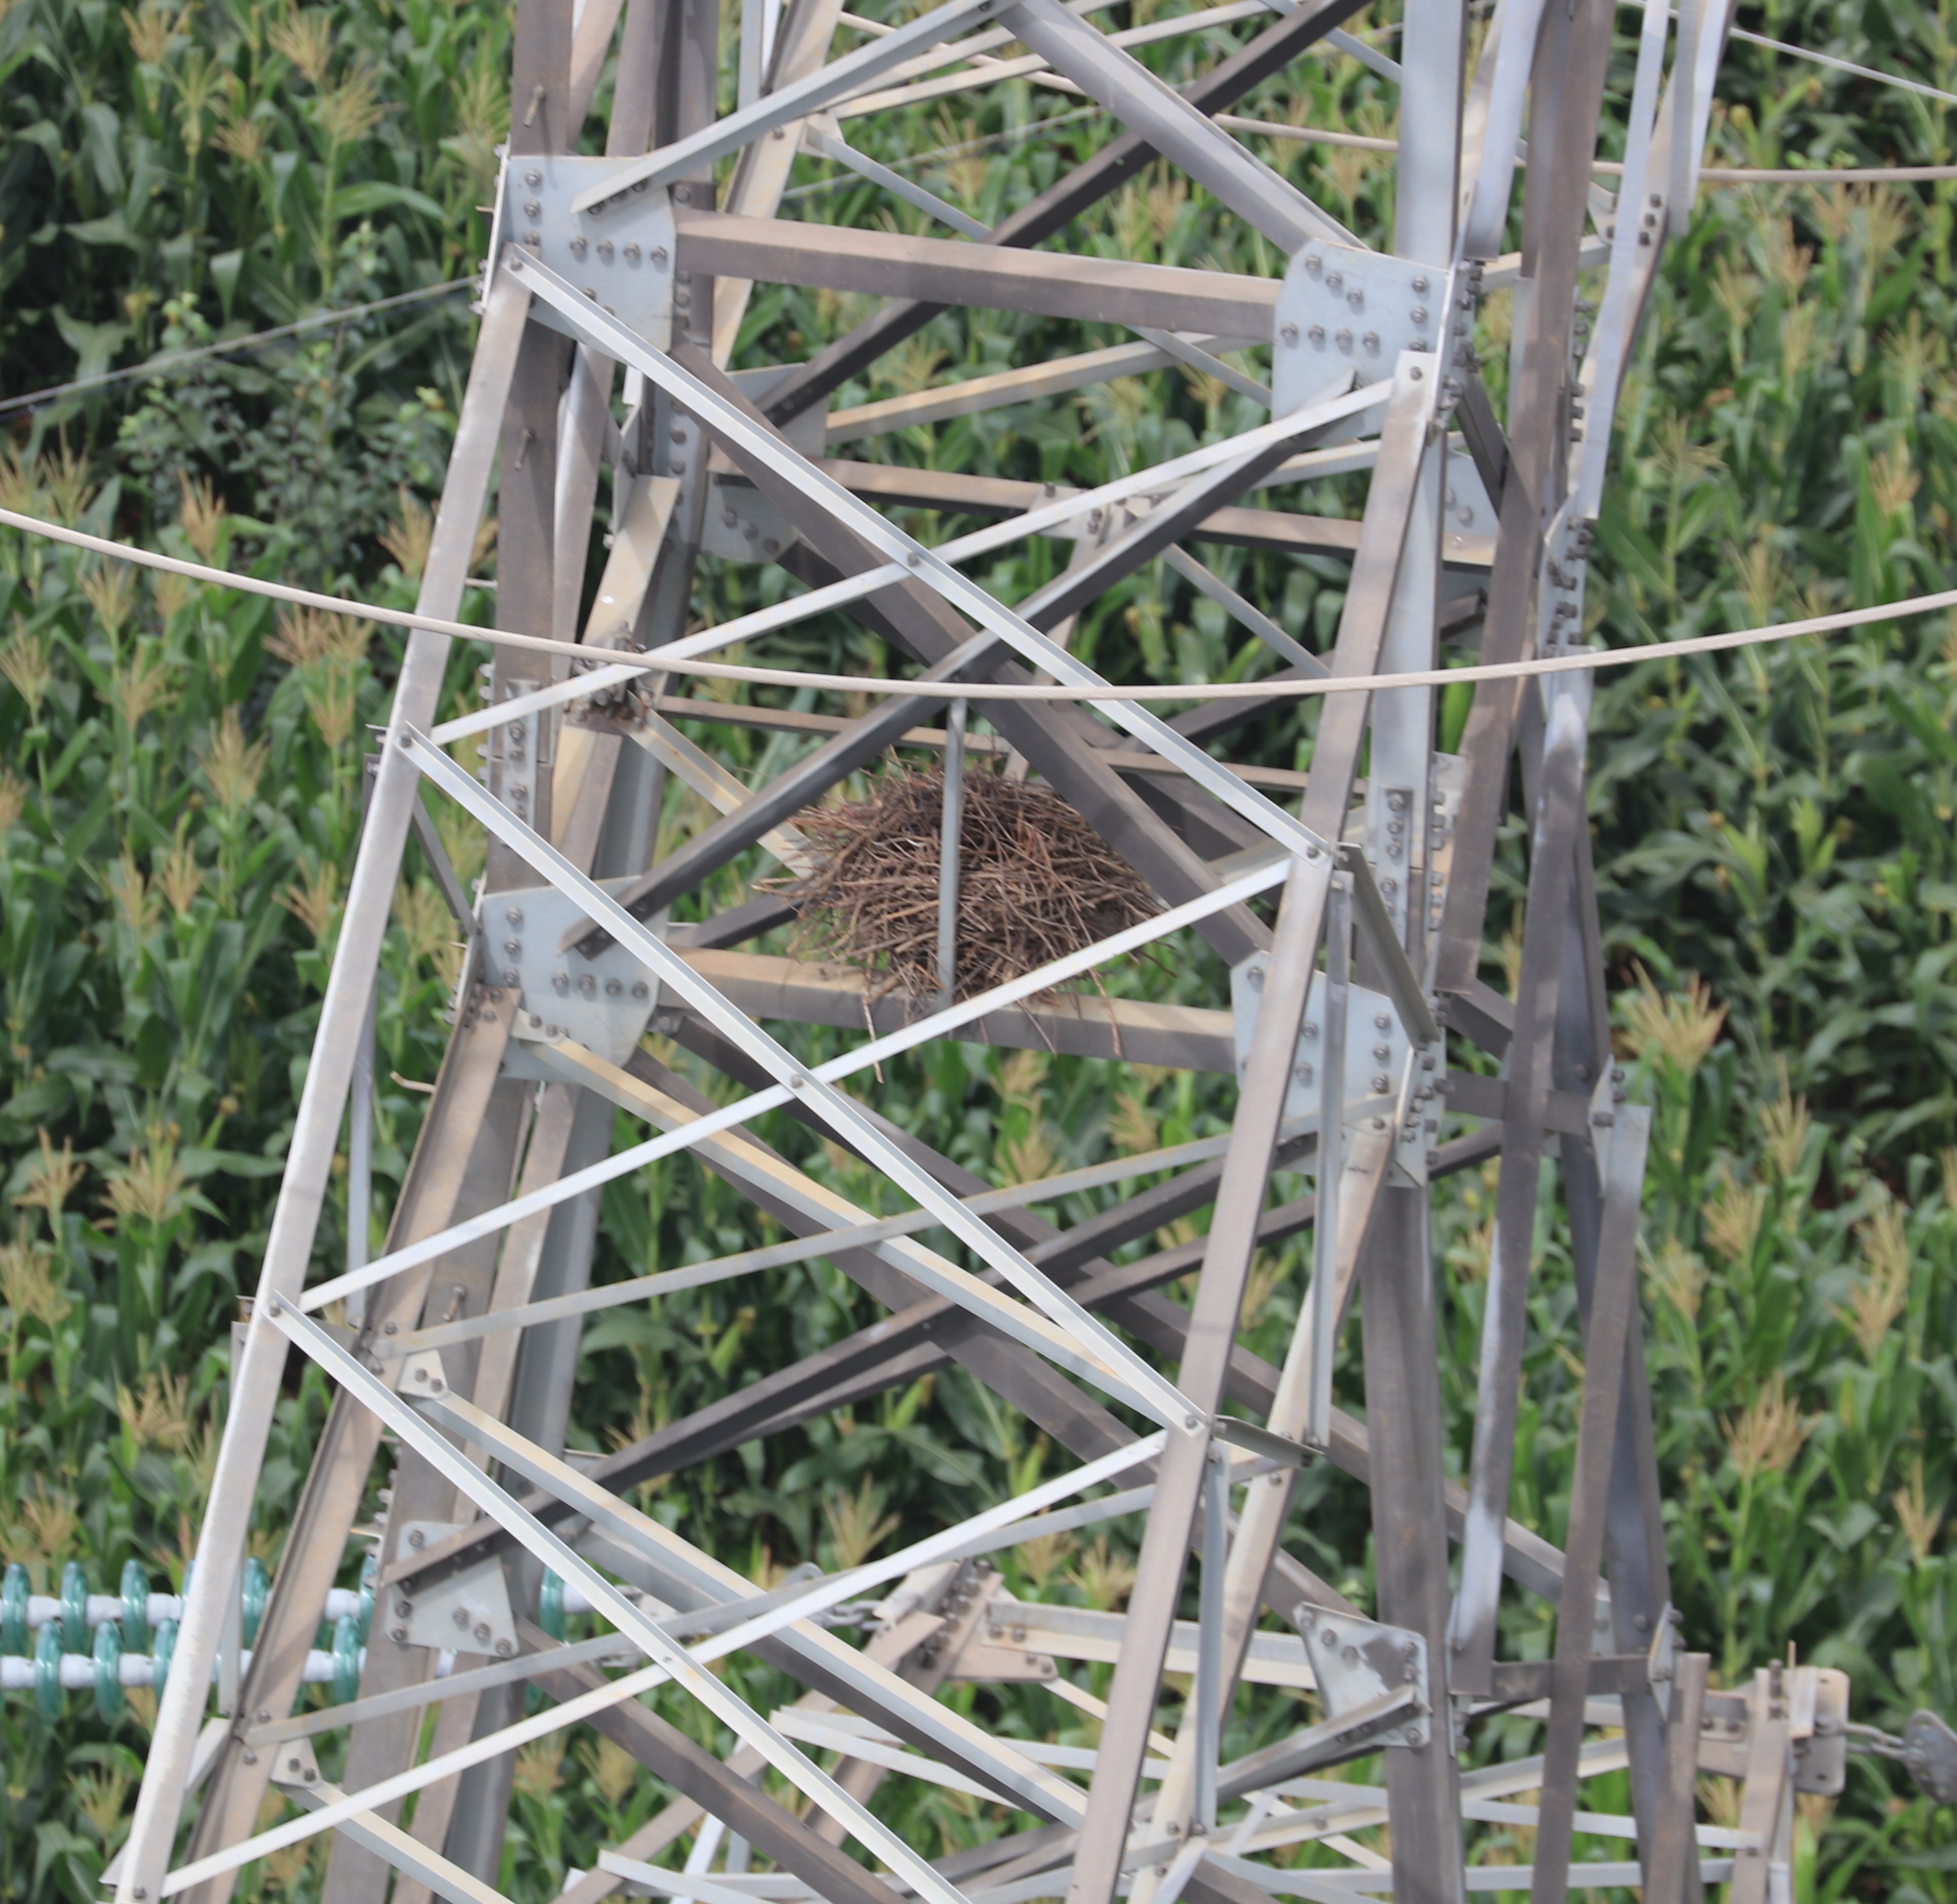niaowo: (750, 713, 1164, 1011)
